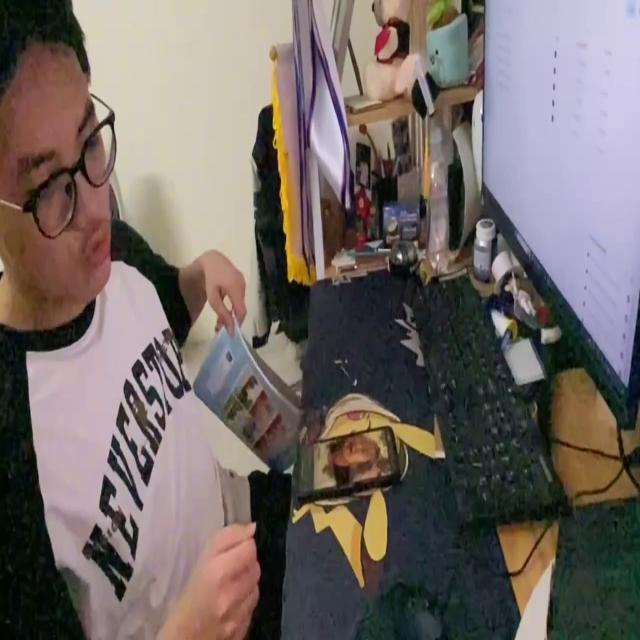book: (186, 309, 304, 478)
laptop: (480, 1, 640, 430)
phone: (292, 424, 402, 501)
student: (0, 0, 263, 640)
